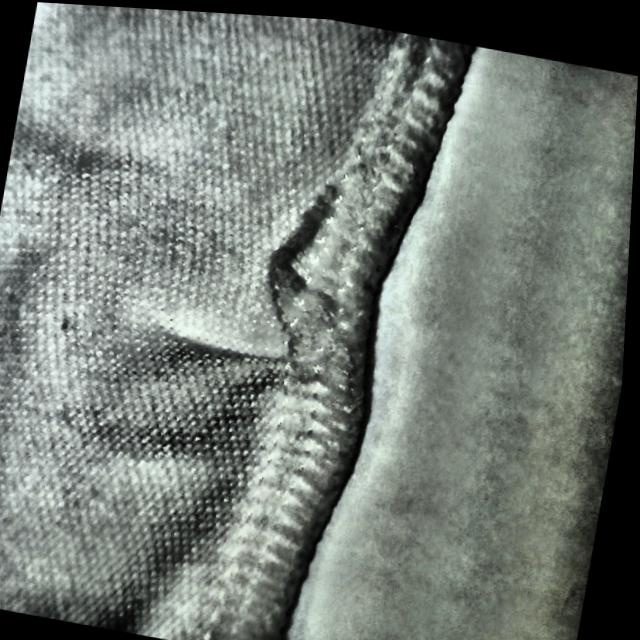seam: (149, 159, 413, 436)
